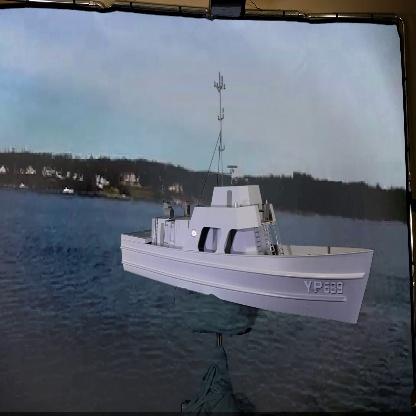YP689: (120, 73, 375, 329)
